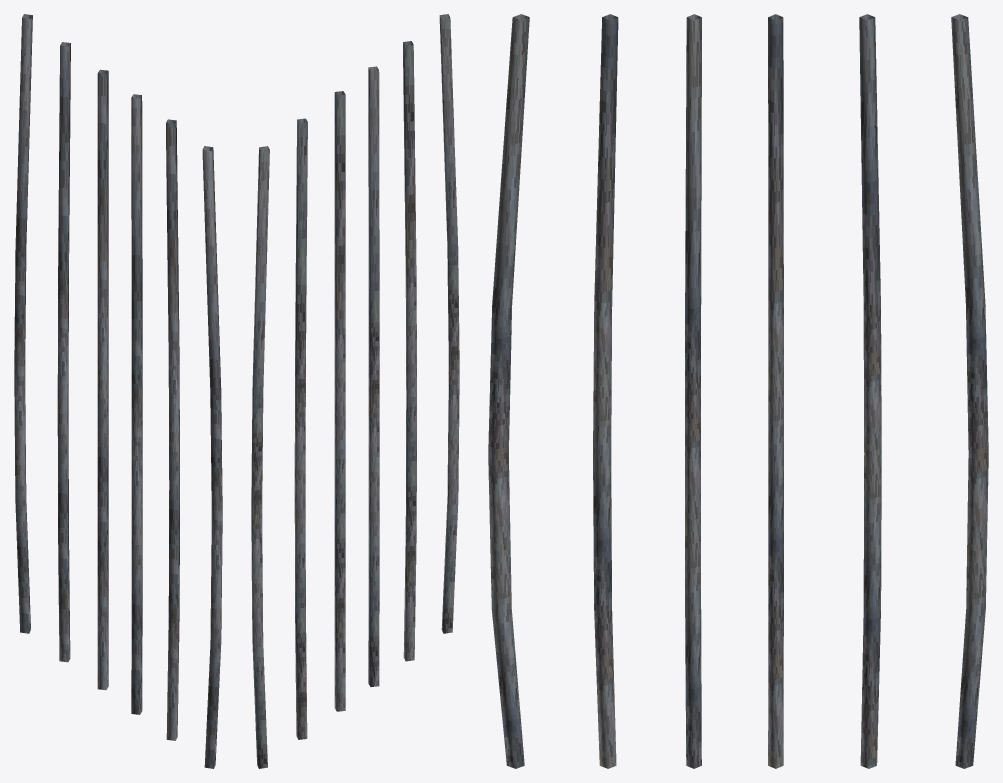
The model's file is INST_EKH_GATEA.fbx.
3 renders of one model, left to right at view 1: azimuth 30°, elevation 25°; view 2: azimuth 150°, elevation 25°; view 3: azimuth 270°, elevation 25°, orthographic. The views are drawn at different scales.
Parts seen in each view (by area): view 1: INST_EKH_GATEA; view 2: INST_EKH_GATEA; view 3: INST_EKH_GATEA.
Part boxes in pixels (x1,y1,x2,y2): INST_EKH_GATEA: [14, 14, 222, 768]; INST_EKH_GATEA: [251, 14, 459, 768]; INST_EKH_GATEA: [488, 14, 988, 768].
Bounding box in the file's own units: 600 × 32375 × 19617.
Materials: 1 (1 with a texture image).
